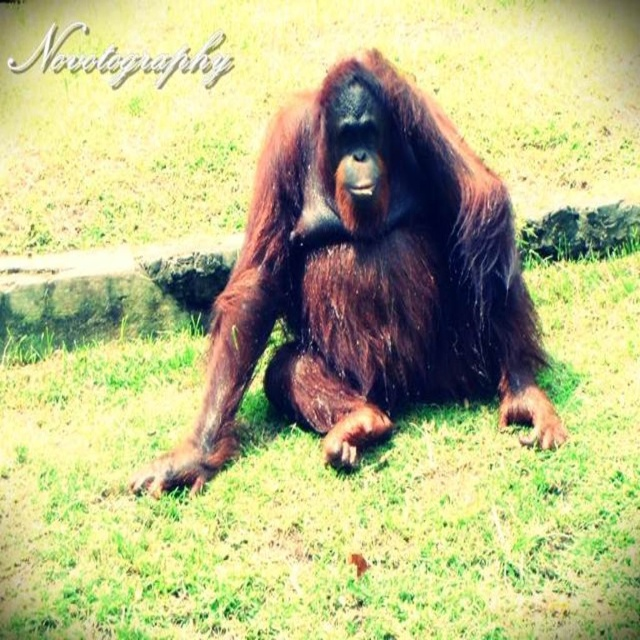Monkey: (129, 48, 571, 499)
